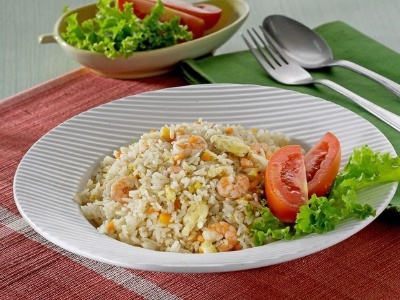nasigoreng: (95, 123, 318, 244)
